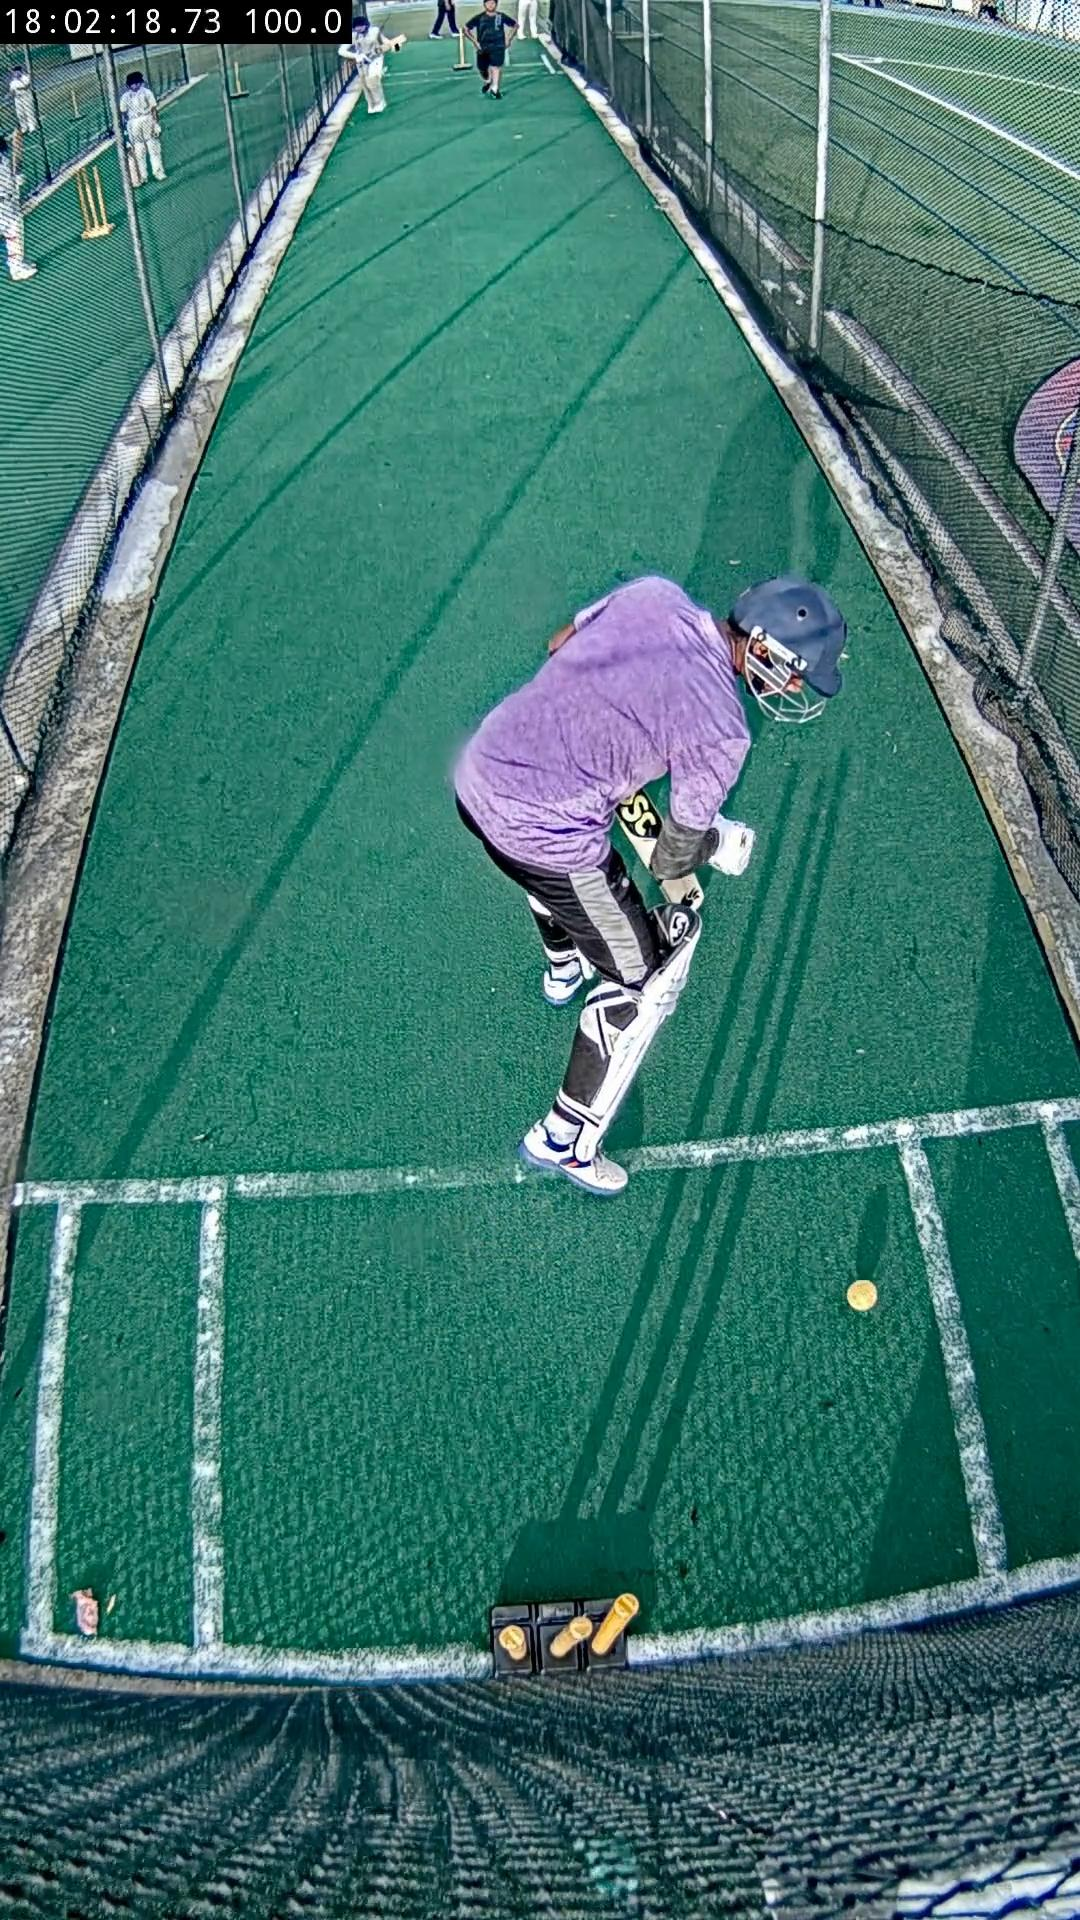ball: (848, 1279, 877, 1312)
bat: (615, 791, 663, 866), (661, 874, 705, 910)
gloves: (708, 814, 757, 876)
helmet: (732, 574, 848, 698)
pads: (592, 919, 702, 1130)
stumps: (492, 1594, 641, 1680)
